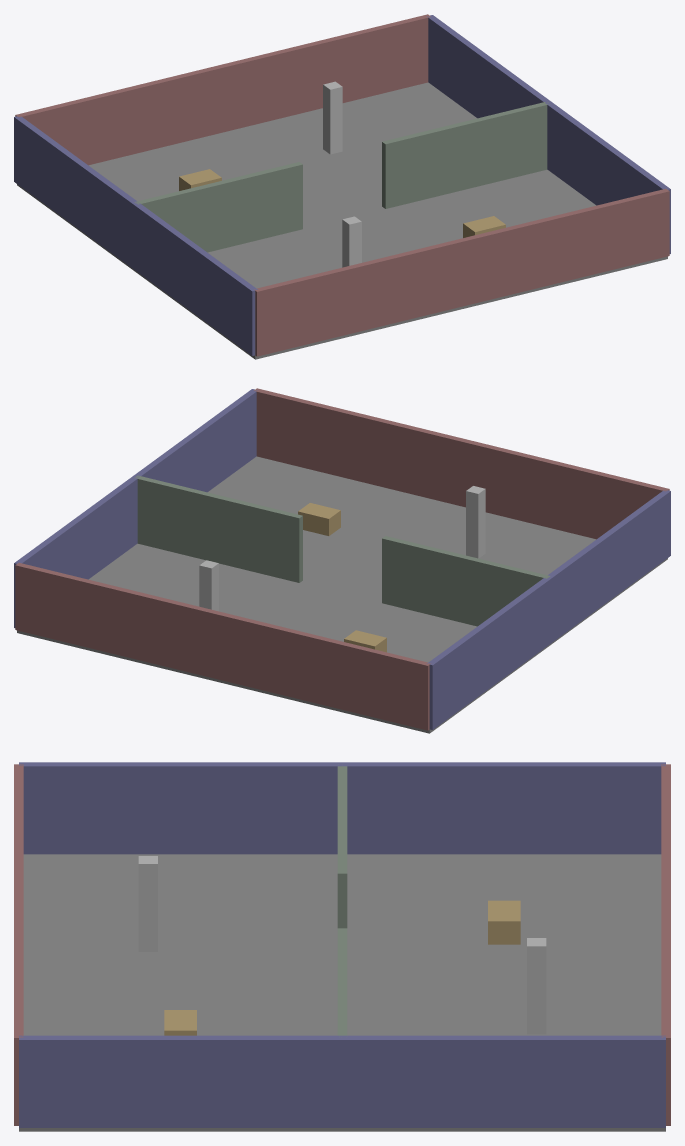
The model's file is mapa_teste.glb.
3 renders of one model, top to bottom at view 1: azimuth 30°, elevation 25°; view 2: azimuth 150°, elevation 25°; view 3: azimuth 270°, elevation 25°, orthographic. The views are drawn at different scales.
Parts seen in each view (by area): view 1: chao, parede_sul, parede_norte, parede_oeste, parede_leste, divisoria_2, divisoria_1, pilar_1, pilar_2, mesa_2, mesa_1; view 2: chao, parede_norte, parede_sul, parede_oeste, parede_leste, divisoria_2, divisoria_1, pilar_2, mesa_2, pilar_1, mesa_1; view 3: chao, parede_leste, parede_oeste, parede_sul, parede_norte, pilar_1, pilar_2, divisoria_1, mesa_1, divisoria_2, mesa_2.
Part boxes in pixels (bbox=[...]): chao: bbox=[17, 82, 667, 359]; parede_sul: bbox=[254, 188, 669, 356]; parede_norte: bbox=[15, 14, 430, 165]; parede_oeste: bbox=[14, 116, 257, 355]; parede_leste: bbox=[427, 15, 670, 253]; divisoria_2: bbox=[382, 102, 549, 208]; divisoria_1: bbox=[134, 162, 302, 252]; pilar_1: bbox=[323, 81, 342, 154]; pilar_2: bbox=[342, 216, 361, 267]; mesa_2: bbox=[463, 216, 505, 237]; mesa_1: bbox=[179, 169, 221, 190]; chao: bbox=[17, 456, 667, 733]; parede_norte: bbox=[15, 562, 430, 730]; parede_sul: bbox=[254, 388, 669, 539]; parede_oeste: bbox=[427, 490, 670, 729]; parede_leste: bbox=[14, 389, 257, 627]; divisoria_2: bbox=[135, 475, 302, 582]; divisoria_1: bbox=[382, 536, 550, 626]; pilar_2: bbox=[466, 486, 485, 558]; mesa_2: bbox=[298, 503, 340, 535]; pilar_1: bbox=[199, 560, 218, 611]; mesa_1: bbox=[344, 630, 386, 652]; chao: bbox=[19, 854, 665, 1131]; parede_leste: bbox=[19, 1035, 665, 1127]; parede_oeste: bbox=[19, 762, 665, 854]; parede_sul: bbox=[14, 764, 23, 1125]; parede_norte: bbox=[661, 764, 670, 1125]; pilar_1: bbox=[527, 938, 546, 1034]; pilar_2: bbox=[138, 856, 157, 951]; divisoria_1: bbox=[337, 764, 347, 928]; mesa_1: bbox=[488, 900, 520, 944]; divisoria_2: bbox=[337, 928, 347, 1035]; mesa_2: bbox=[164, 1010, 196, 1035].
Size of the model in its own units: 20.3 by 3.2 by 20.3.
